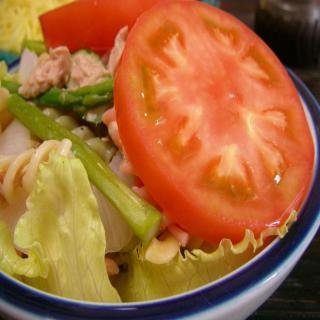tomato: (87, 19, 308, 266)
